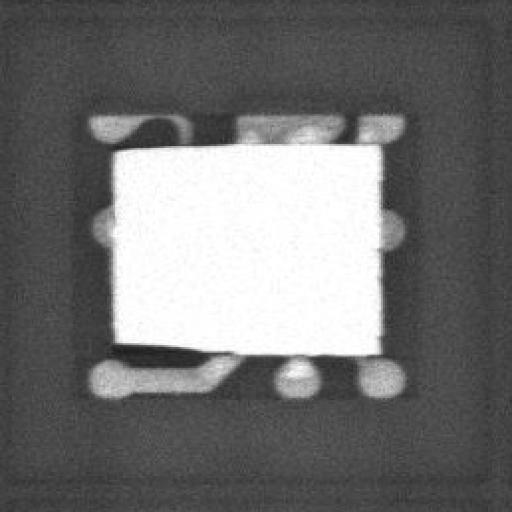DIE_BROKEN: (111, 140, 244, 154), (111, 341, 230, 355)
